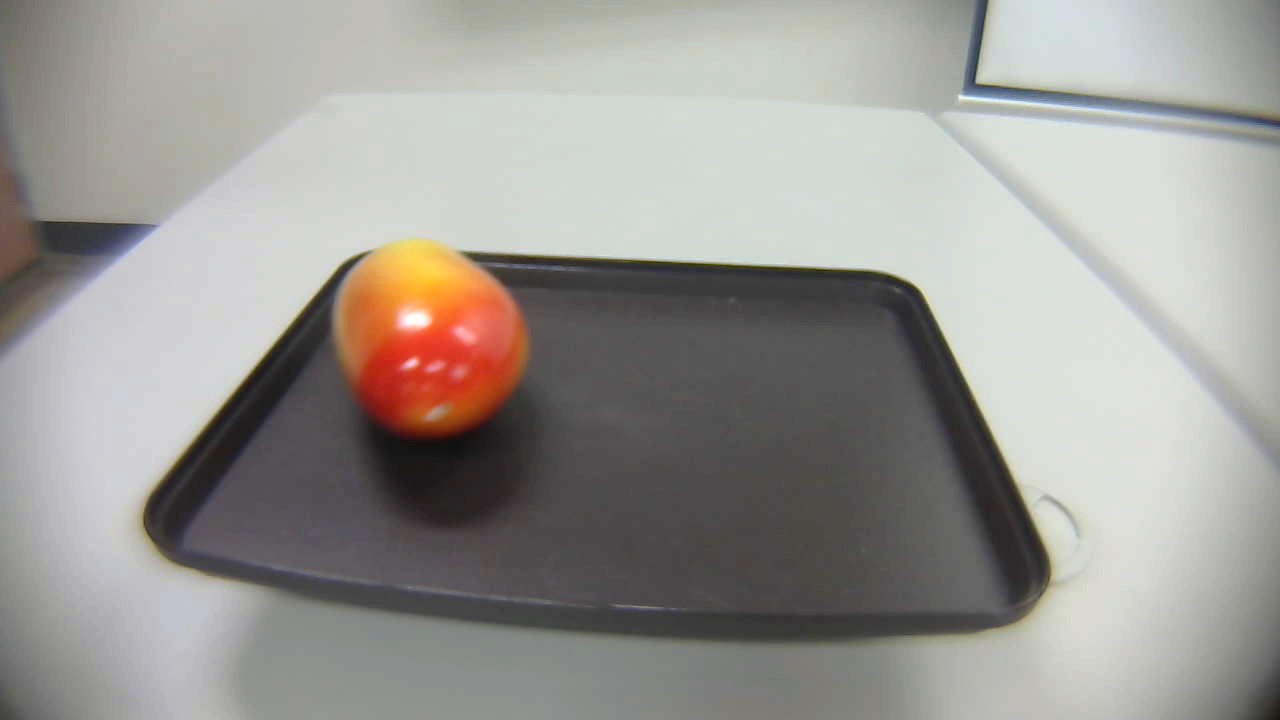red mango: (323, 234, 549, 448)
